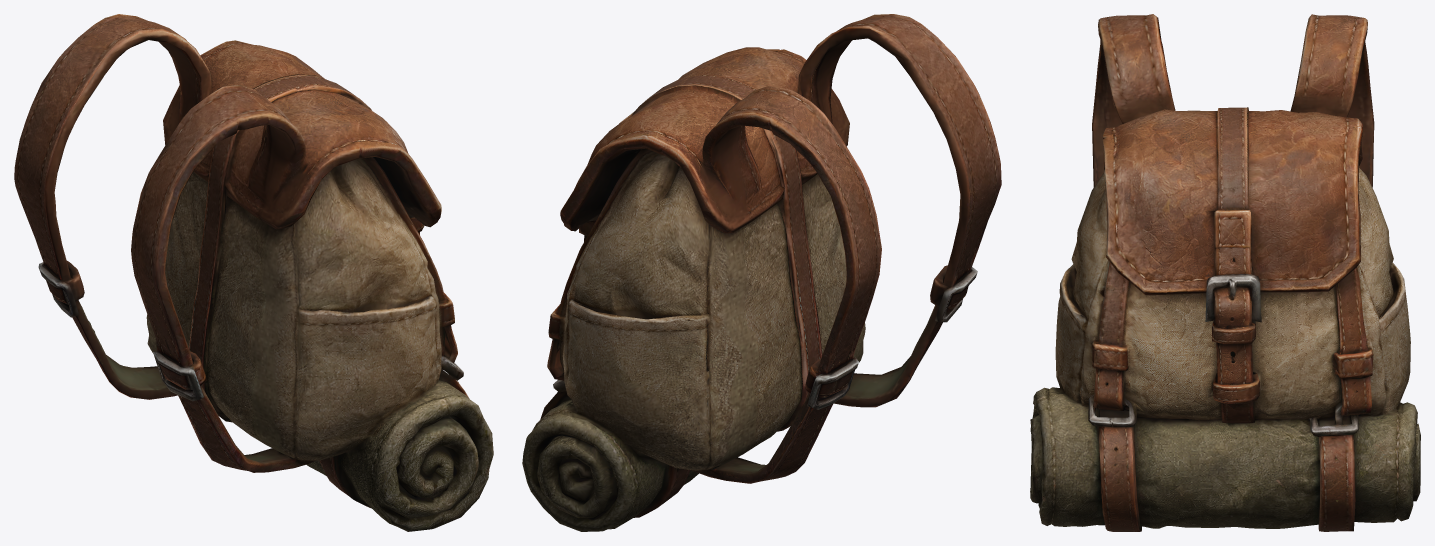
3 views of the same model, side by side, from view 1: azimuth 30°, elevation 25°; view 2: azimuth 150°, elevation 25°; view 3: azimuth 270°, elevation 25° (orthographic). The views are drawn at different scales.
Visible parts, largest first — view 1: tripo_node_aa780e4d-3897-4a8c-933a-755a86dd28ea; view 2: tripo_node_aa780e4d-3897-4a8c-933a-755a86dd28ea; view 3: tripo_node_aa780e4d-3897-4a8c-933a-755a86dd28ea.
Part boxes in pixels (x1,y1,x2,y2): tripo_node_aa780e4d-3897-4a8c-933a-755a86dd28ea: (14, 14, 493, 531); tripo_node_aa780e4d-3897-4a8c-933a-755a86dd28ea: (522, 14, 1001, 531); tripo_node_aa780e4d-3897-4a8c-933a-755a86dd28ea: (1030, 14, 1420, 531).
Bounding box in the file's own units: 0.7736 × 0.982 × 0.804.
1 material, 1 textured.
